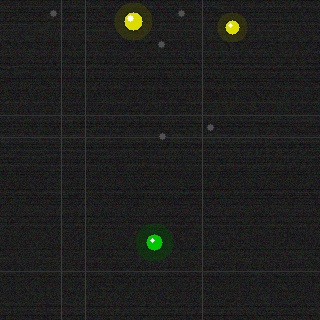green_normal: (144, 232, 164, 252)
yellow_warning: (122, 10, 144, 32), (223, 18, 241, 36)
